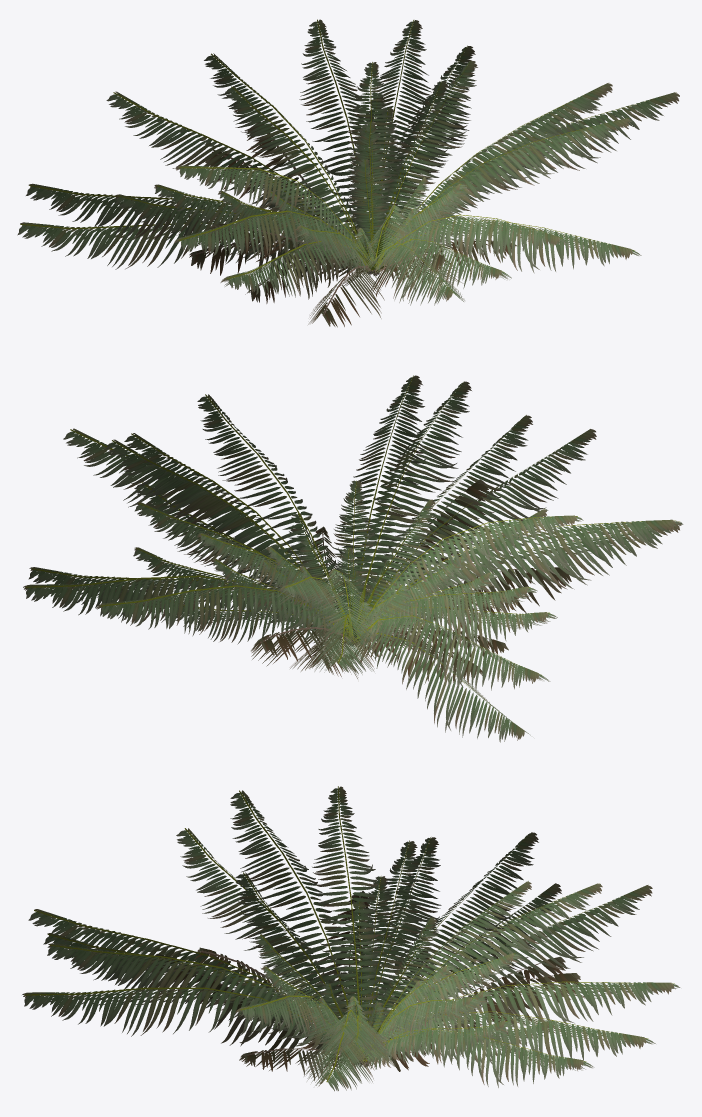
File: Fern 01_LOD2.obj
3 renders of one model, top to bottom at view 1: azimuth 30°, elevation 25°; view 2: azimuth 150°, elevation 25°; view 3: azimuth 270°, elevation 25°, orthographic. The views are drawn at different scales.
Parts seen in each view (by area): view 1: fern leaf 01, fern leaf 02, stem 02; view 2: fern leaf 01, fern leaf 02; view 3: fern leaf 01, fern leaf 02.
Boxes of the visible parts, <box> form: fern leaf 01: <box>17,19,679,305</box>; fern leaf 02: <box>189,121,516,327</box>; stem 02: <box>351,224,396,275</box>; fern leaf 01: <box>23,375,683,742</box>; fern leaf 02: <box>251,479,571,682</box>; fern leaf 01: <box>22,786,680,1091</box>; fern leaf 02: <box>151,891,580,1080</box>.
Size of the model in its own units: 123 by 35.03 by 120.
3 materials, 3 textured.
